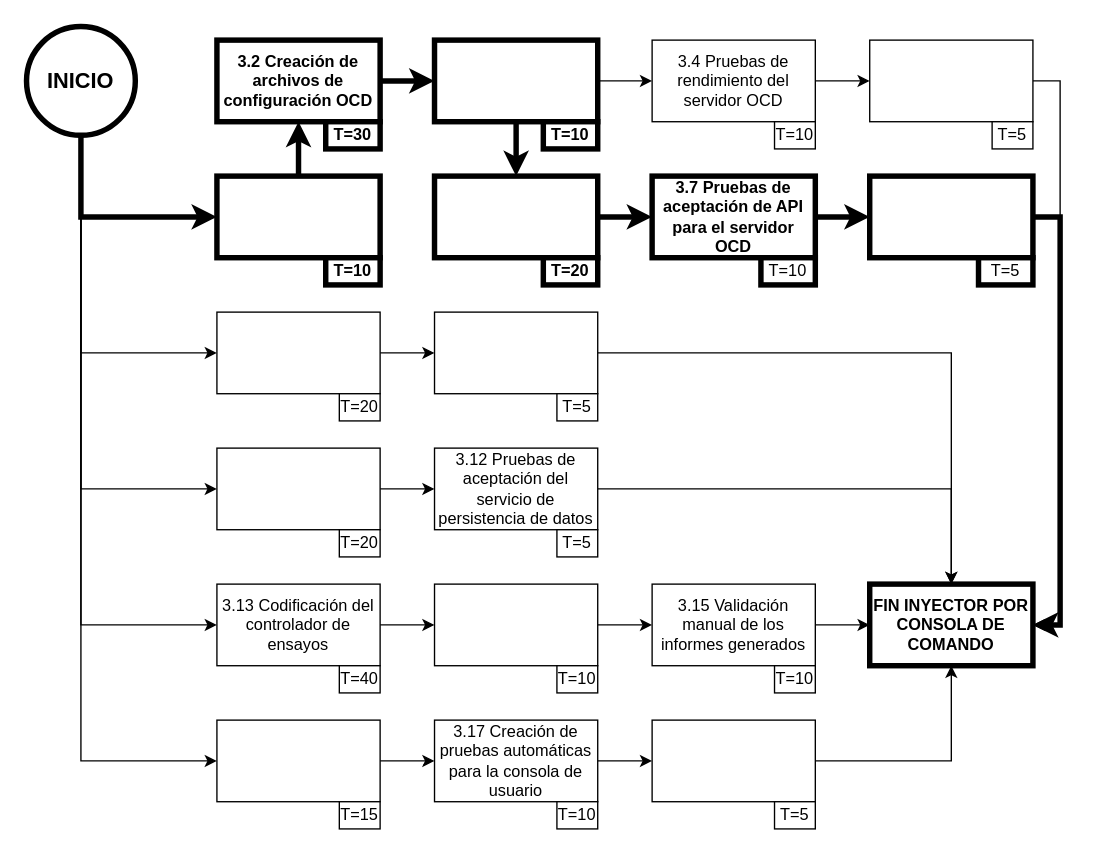
Image size: 1096x853. Some labels were removed from this diagram. Here are the shapes that lost their labels. From the top down, the centre of each, then its label:
At point 515,80: "3.3 Pruebas de integración servidor OCD-DUT".
At point 950,80: "3.5 Determinación de la media y desvío del error temporal SEFI-SEU".
At point 298,216: "3.1 Integración del servidor OCD".
At point 515,216: "3.6 Creación de API para el servidor OCD".
At point 950,216: "3.8 Determinación y comparación de la media y desvío SEFI-SEU".
At point 298,352: "3.9 Servicio de interfaz serie para el DUT".
At point 515,352: "3.10 Pruebas de rendimiento de la interfaz serie".
At point 298,488: "3.11 Servicio de persistencia de datos".
At point 515,624: "3.14 Pruebas del controlador de ensayos".
At point 298,760: "3.16 Creación de la consola de usuario".
At point 733,760: "3.18 Validación de la consola de usuario por parte del cliente".
